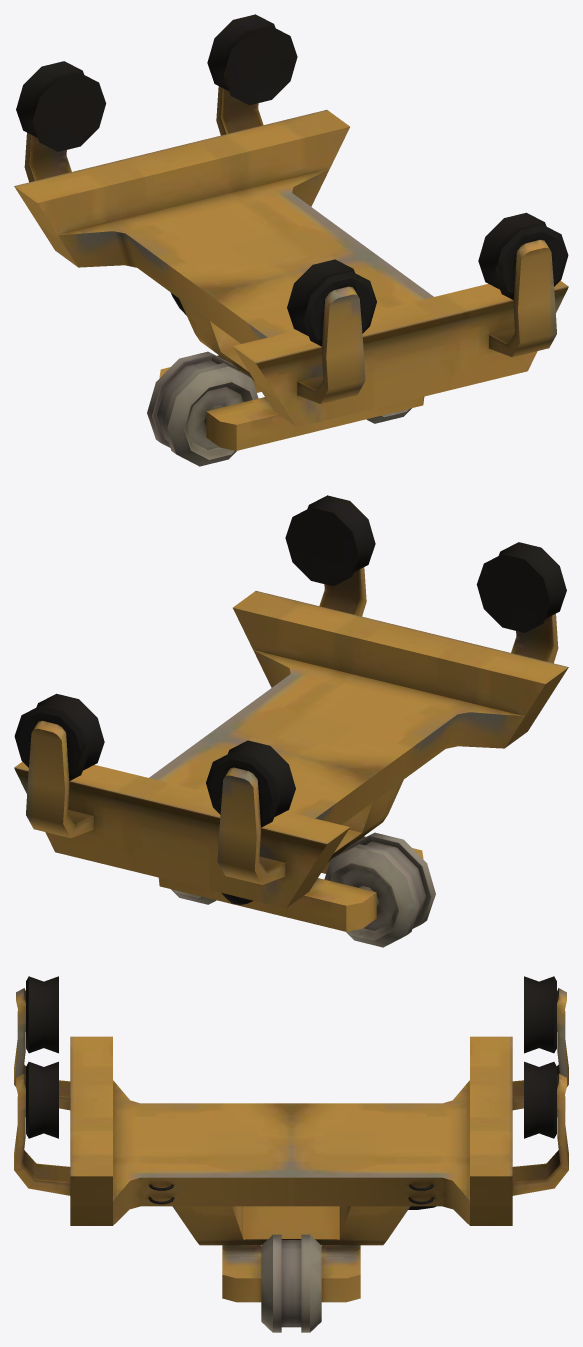
The picture shows the model from 3 angles, top to bottom: view 1: azimuth 30°, elevation 25°; view 2: azimuth 150°, elevation 25°; view 3: azimuth 270°, elevation 25°; orthographic projection. The views are drawn at different scales.
Visible parts, largest first — view 1: body0_model0_lod0_mesh0; view 2: body0_model0_lod0_mesh0; view 3: body0_model0_lod0_mesh0.
Boxes of the visible parts, left/top/right/bottom form: body0_model0_lod0_mesh0: left=14, top=14, right=568, bottom=466; body0_model0_lod0_mesh0: left=14, top=495, right=568, bottom=947; body0_model0_lod0_mesh0: left=14, top=976, right=568, bottom=1332.
Bounding box in the file's own units: 76.32 × 67.17 × 128.
1 material, 1 textured.
